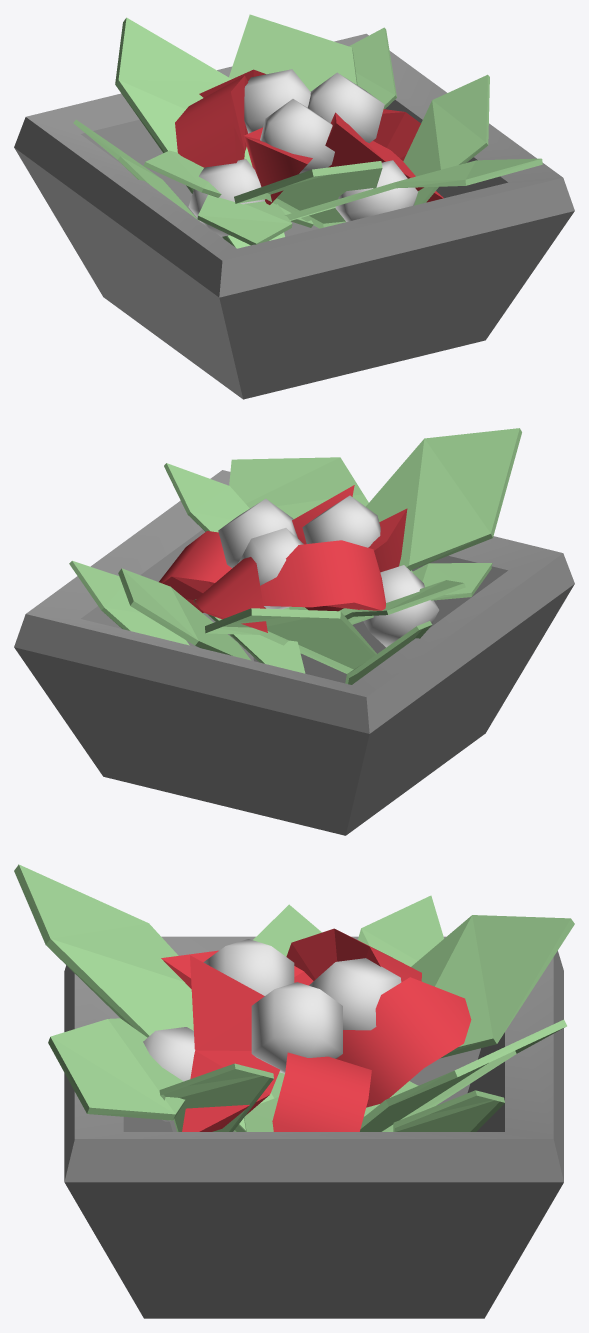
The model's file is Teller_Salat.FBX.
The picture shows the model from 3 angles, top to bottom: view 1: azimuth 30°, elevation 25°; view 2: azimuth 150°, elevation 25°; view 3: azimuth 270°, elevation 25°; orthographic projection. The views are drawn at different scales.
Parts seen in each view (by area): view 1: Salat; view 2: Salat; view 3: Salat.
Part boxes in pixels (bbox=[...]): Salat: bbox=[14, 14, 574, 399]; Salat: bbox=[14, 428, 574, 835]; Salat: bbox=[14, 864, 574, 1318].
Size of the model in its own units: 13.78 by 9.76 by 15.47.
